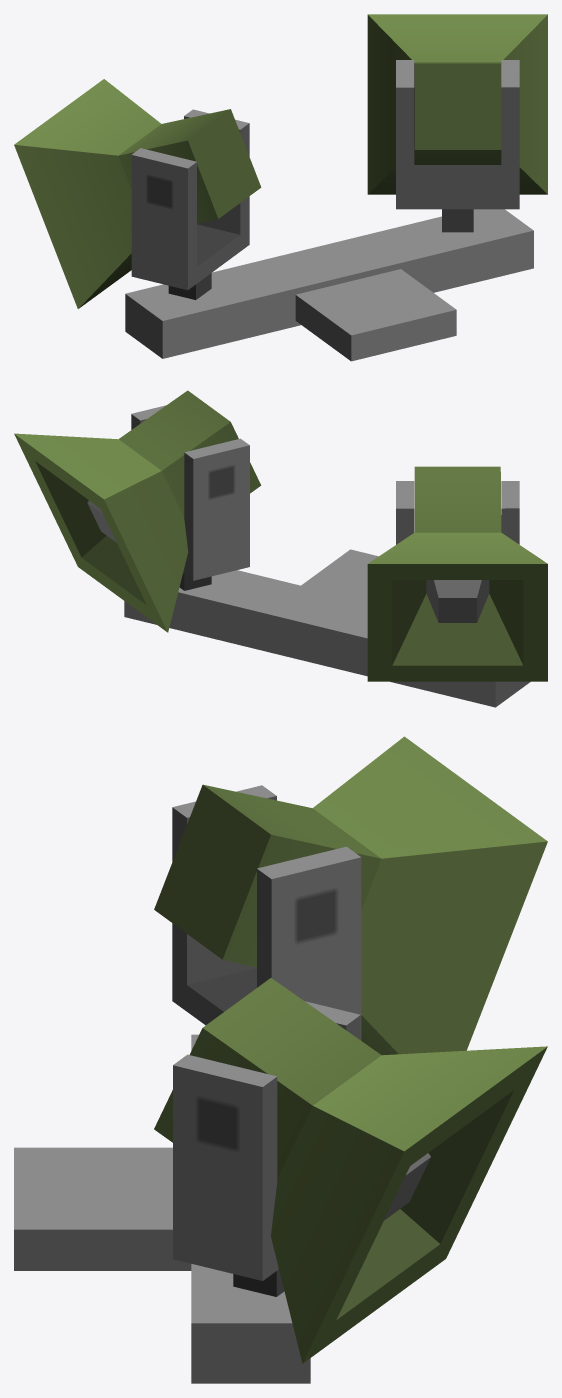
File: SM_Prop_Speakers_01.fbx
3 renders of one model, top to bottom at view 1: azimuth 30°, elevation 25°; view 2: azimuth 150°, elevation 25°; view 3: azimuth 270°, elevation 25°, orthographic. The views are drawn at different scales.
Visible parts, largest first — view 1: SM_Prop_Speakers_01; view 2: SM_Prop_Speakers_01; view 3: SM_Prop_Speakers_01.
Boxes of the visible parts, <box> form: SM_Prop_Speakers_01: <box>14,14,547,361</box>; SM_Prop_Speakers_01: <box>14,390,547,707</box>; SM_Prop_Speakers_01: <box>14,736,547,1383</box>.
Size of the model in its own units: 2.2 by 0.8244 by 1.2.
